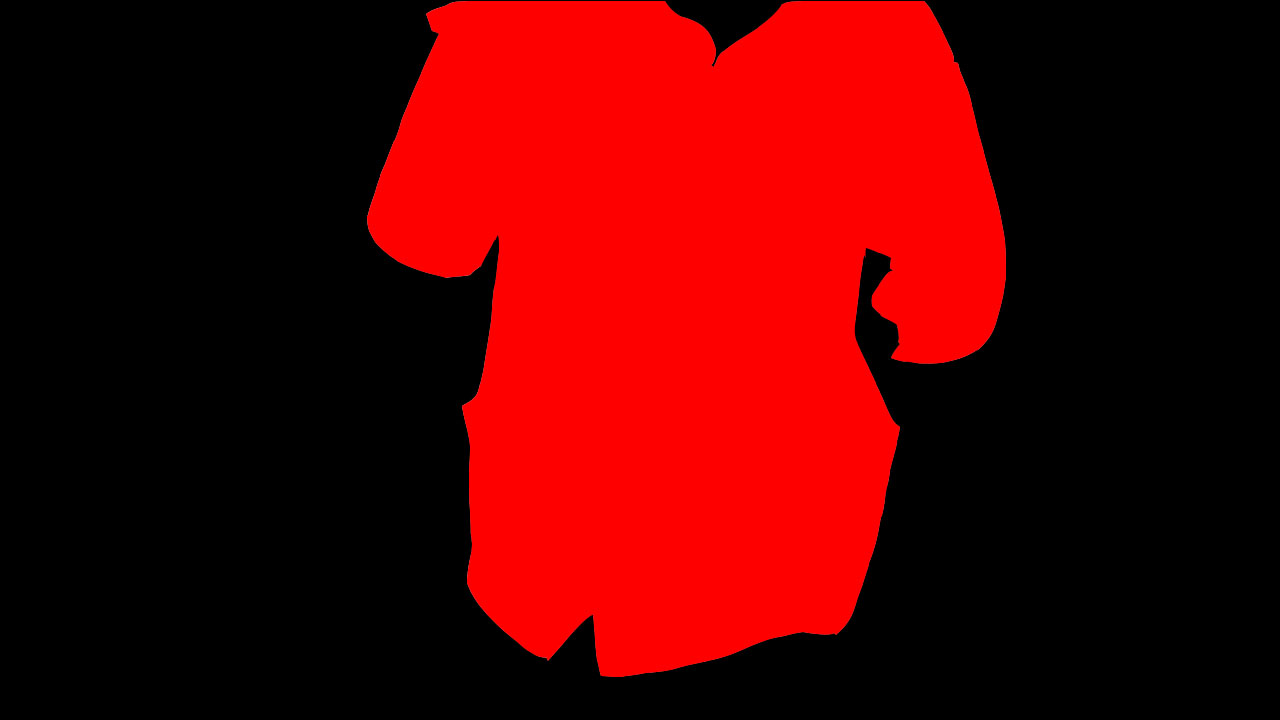uniforme_ifmt: (367, 1, 1008, 679)
